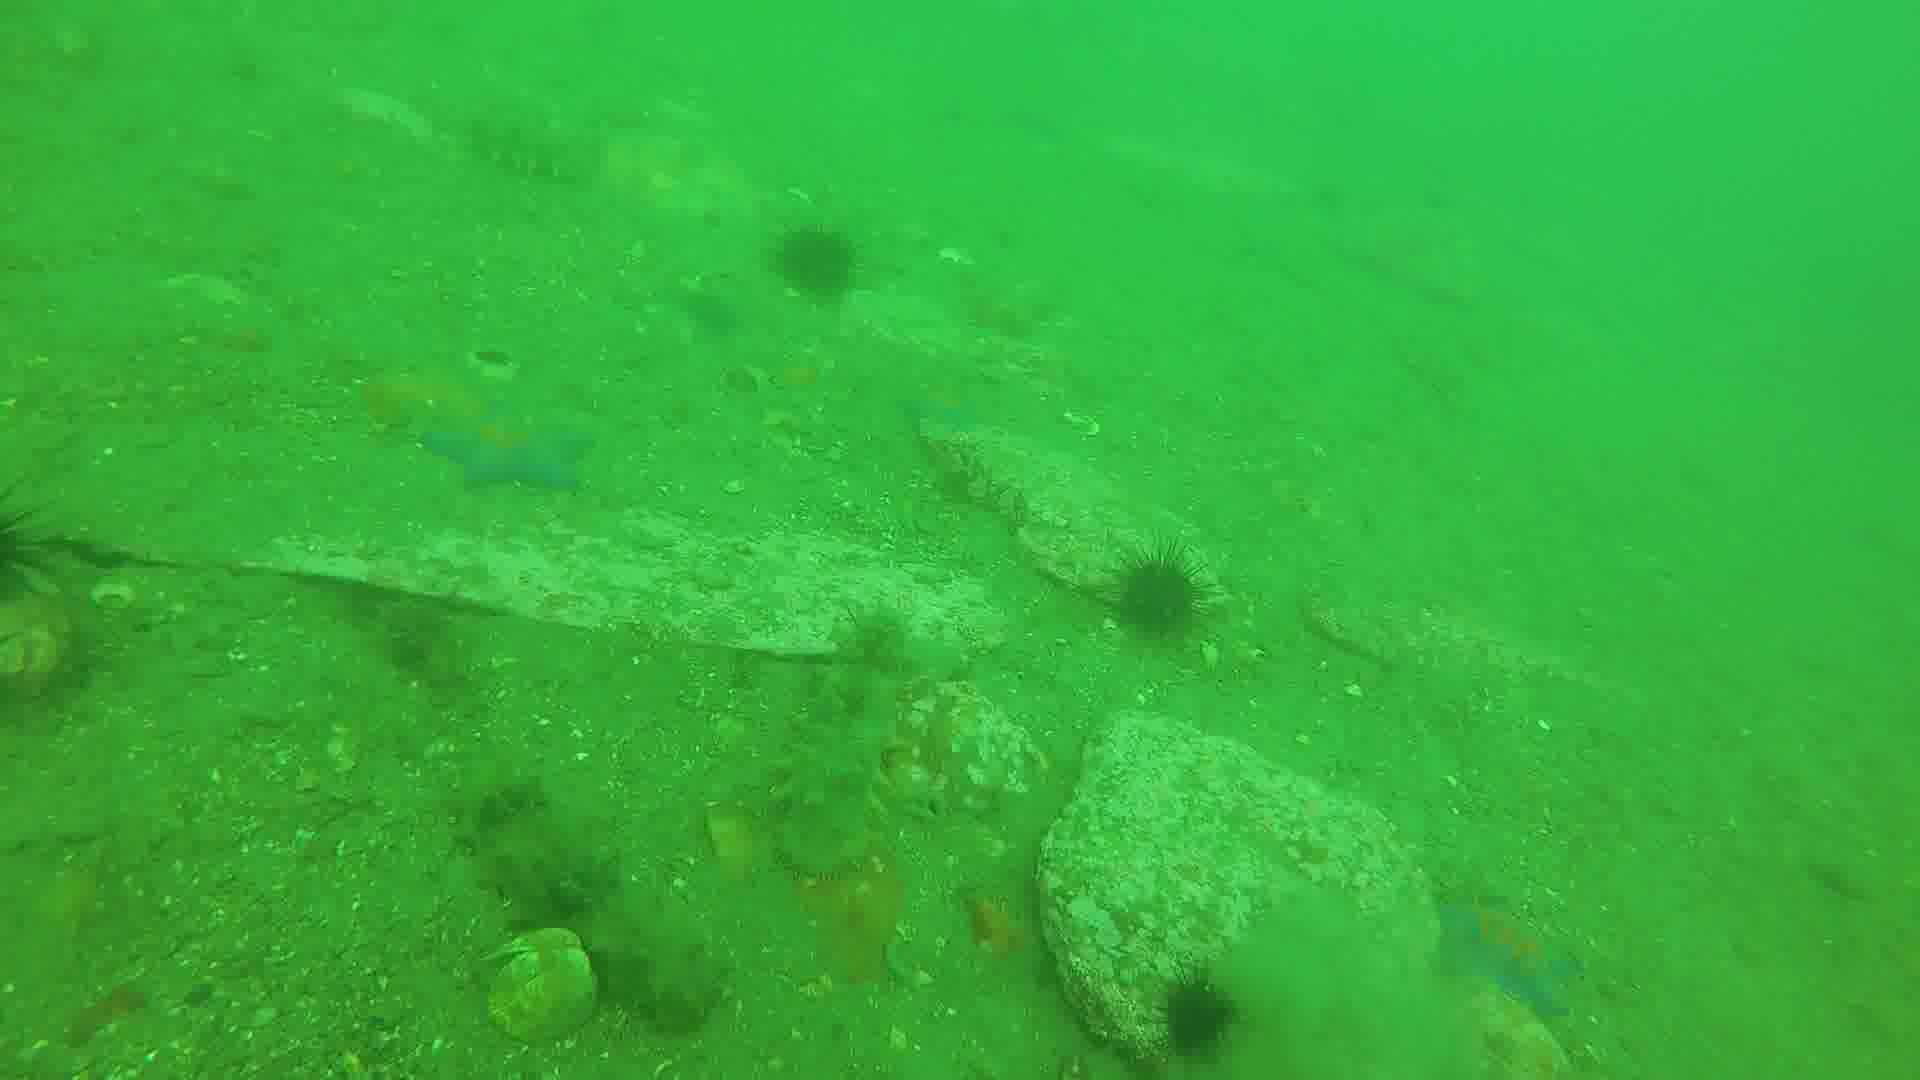echinus: (1126, 550, 1218, 647), (1154, 967, 1245, 1054), (767, 219, 866, 294), (1, 477, 50, 616)
holothurian: (451, 783, 708, 1034), (785, 608, 923, 885), (458, 105, 580, 189)
scallop: (473, 928, 603, 1042)
starfish: (1431, 882, 1581, 1021), (426, 407, 593, 500)
